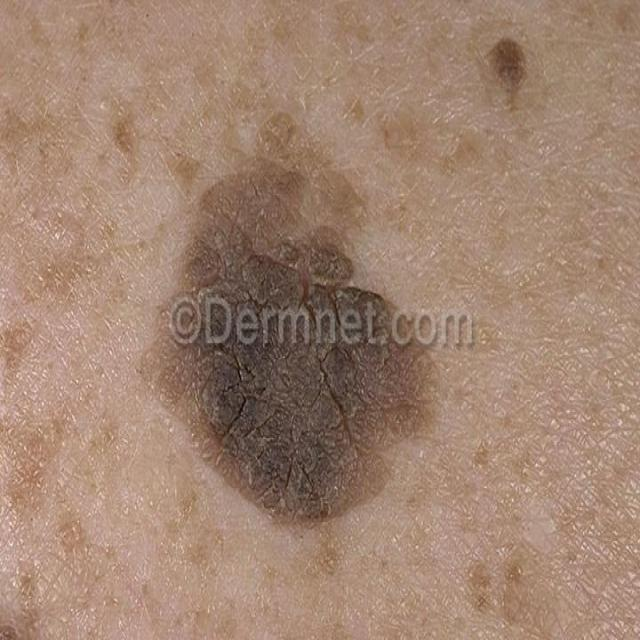Eczema: (169, 170, 430, 519)
